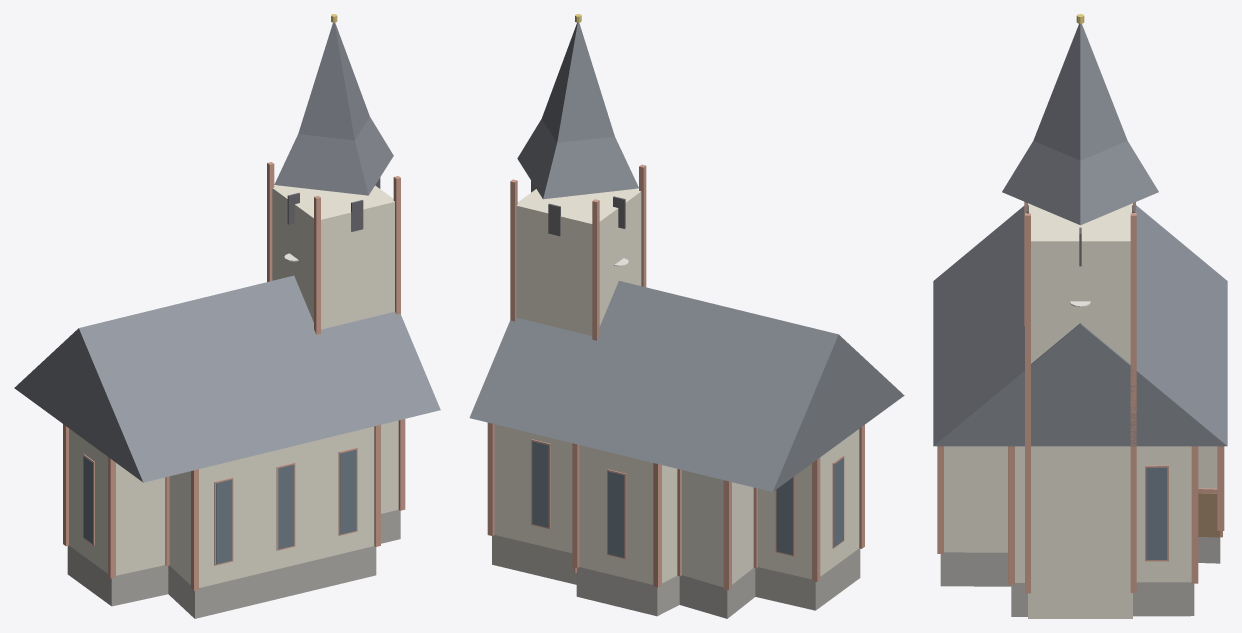
The model's file is church-matthiaskirche.glb.
3 renders of one model, left to right at view 1: azimuth 30°, elevation 25°; view 2: azimuth 150°, elevation 25°; view 3: azimuth 270°, elevation 25°, orthographic. The views are drawn at different scales.
Parts seen in each view (by area): view 1: building; view 2: building; view 3: building.
Part boxes in pixels (<box>): building: <box>14,14,440,618</box>; building: <box>469,14,904,618</box>; building: <box>933,14,1227,618</box>.
Bounding box in the file's own units: 27.65 × 42.8 × 19.65.
